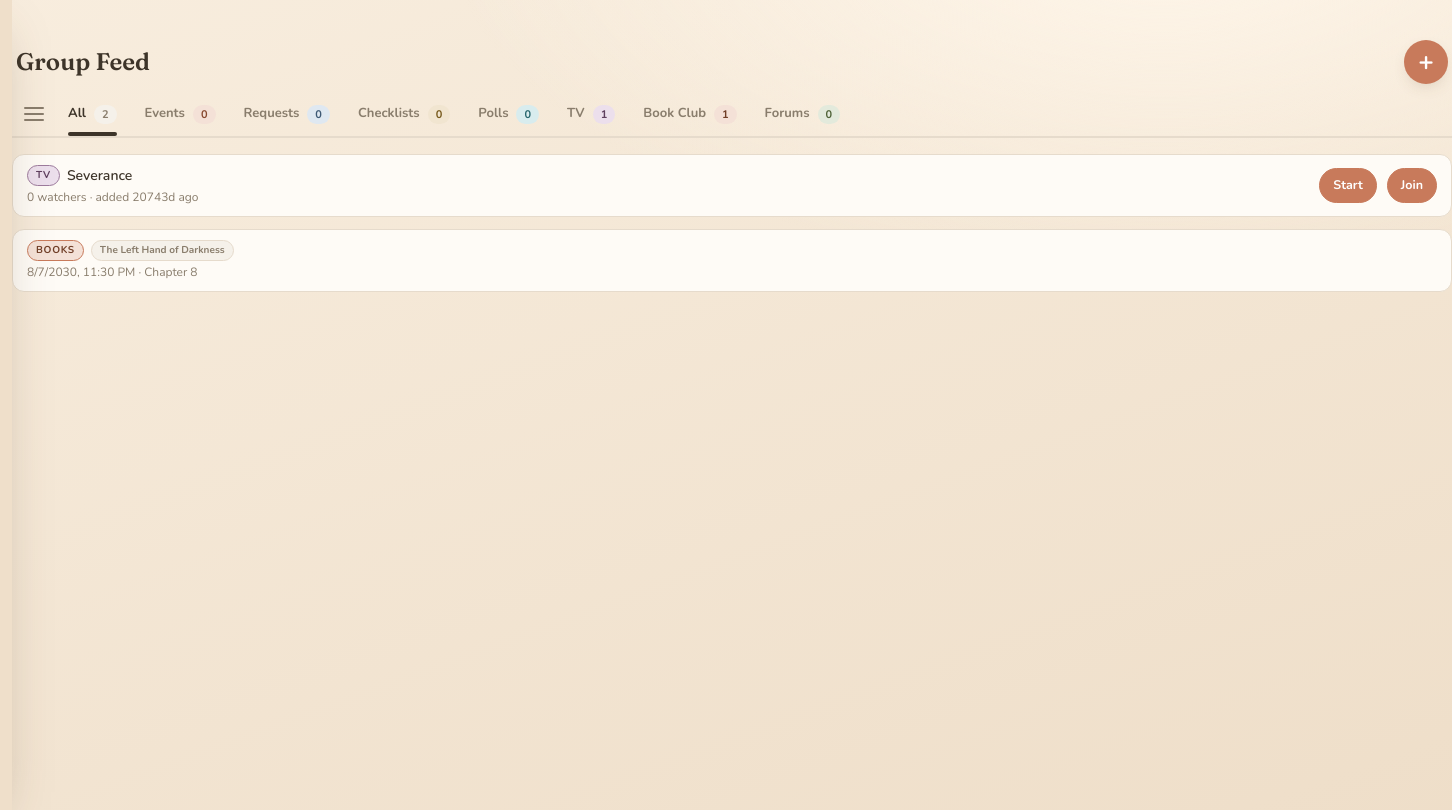
it: GroupFeed module focus › keeps the create action slot mounted when category permissions change
Expected: the text "Severance" is shown, top-left (67, 165), bottom-right (132, 186)
Expected: the button named "Create a module" is shown, top-left (1404, 40), bottom-right (1448, 84)
Click the tab "Book Club 1" at point(690, 114), box top-left (631, 92), bottom-right (749, 136)
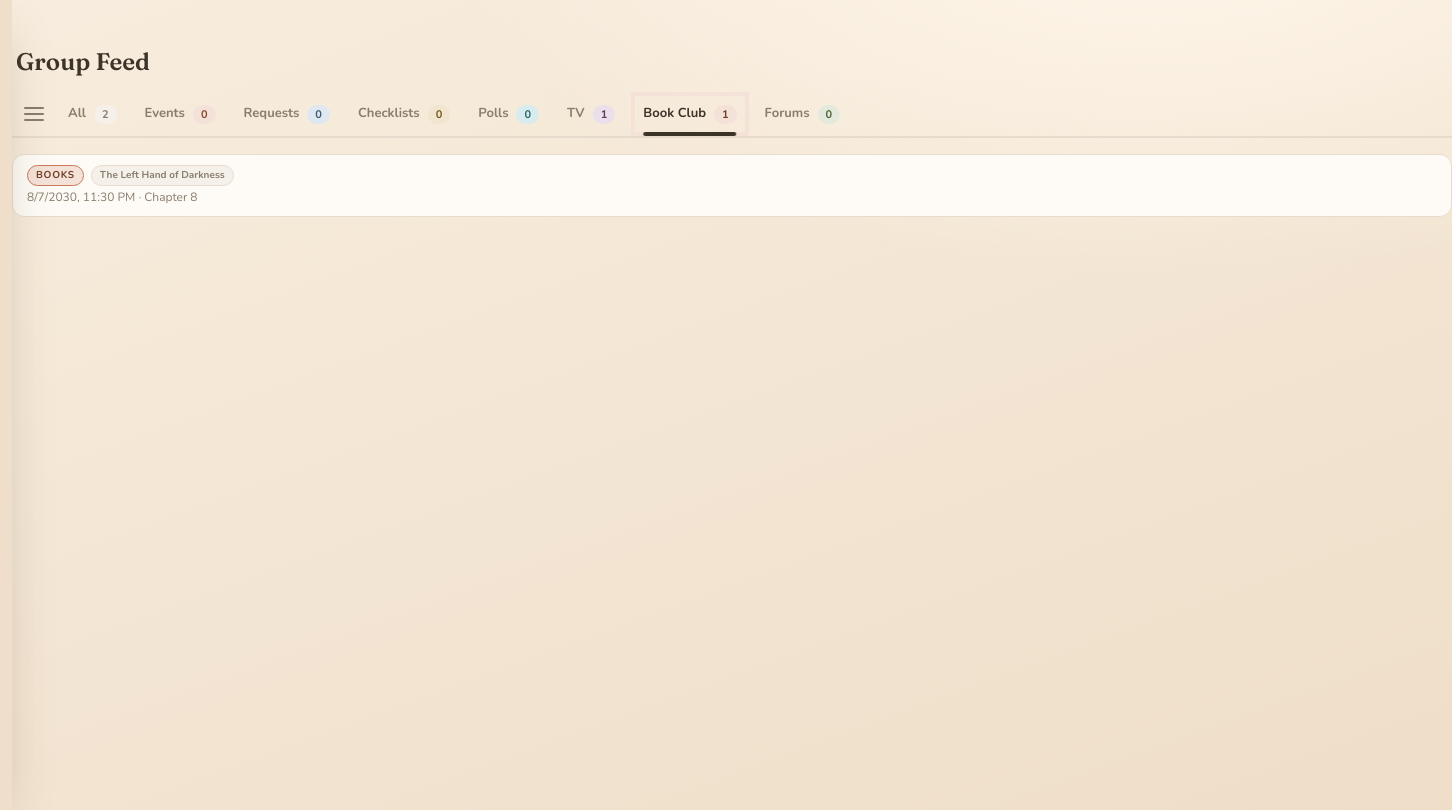
Now the button "+" is gone
Click the tab "TV 1" at point(591, 114), box top-left (555, 92), bottom-right (627, 136)
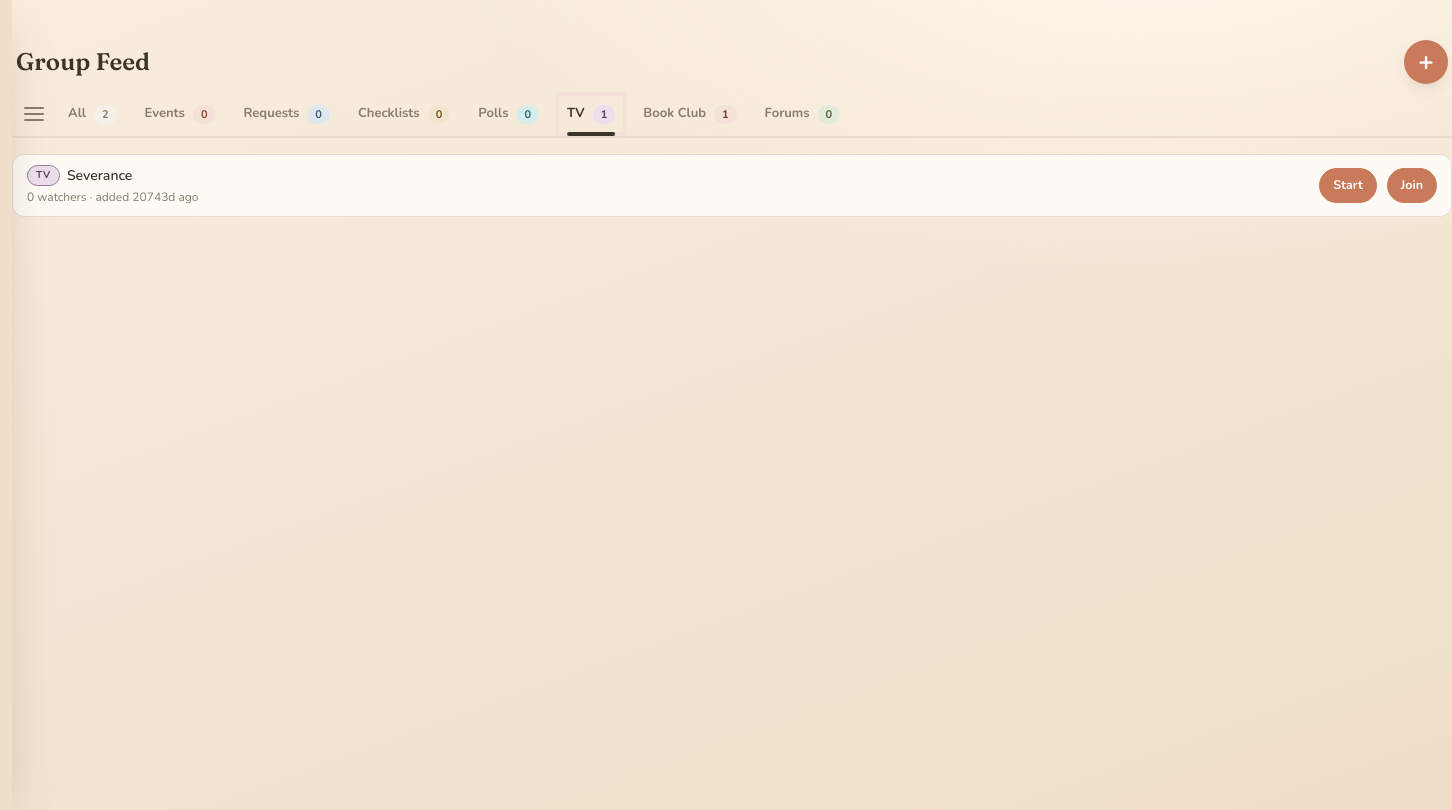
Now the button named "Add a show" is shown, box top-left (1404, 40), bottom-right (1448, 84)
